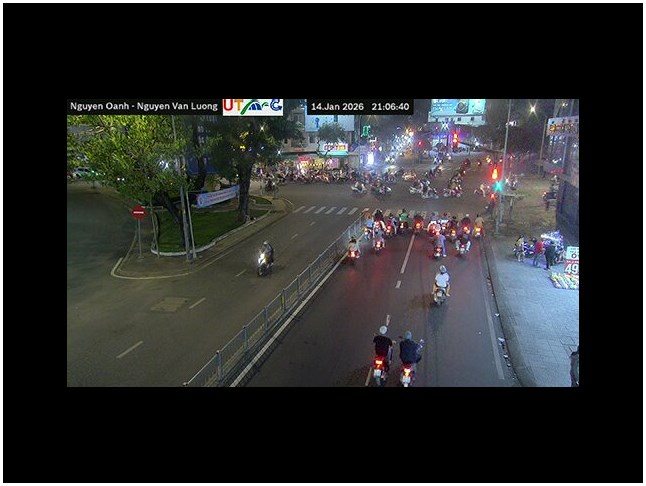motorbike: (254, 239, 275, 277)
